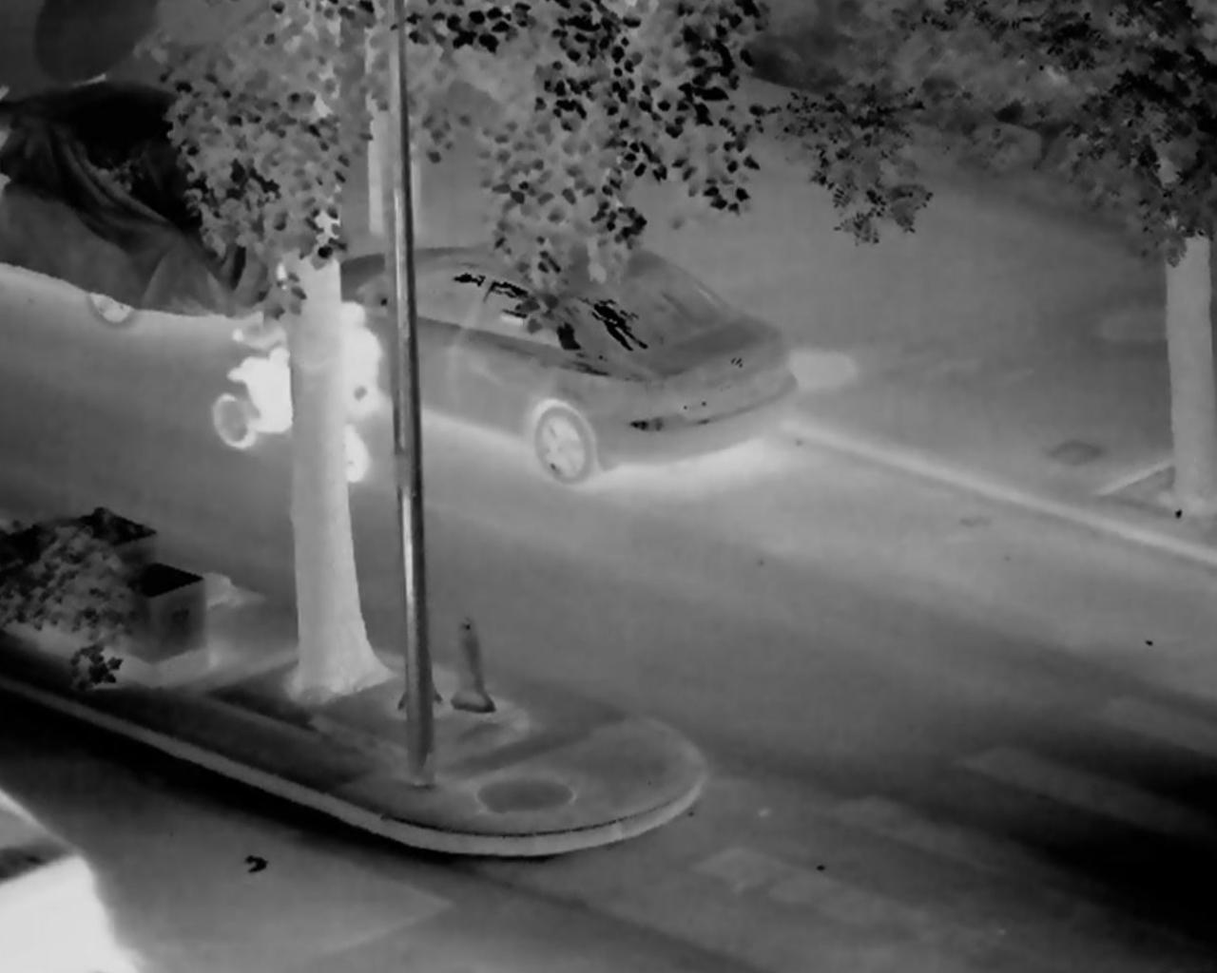person: (262, 276, 368, 440)
